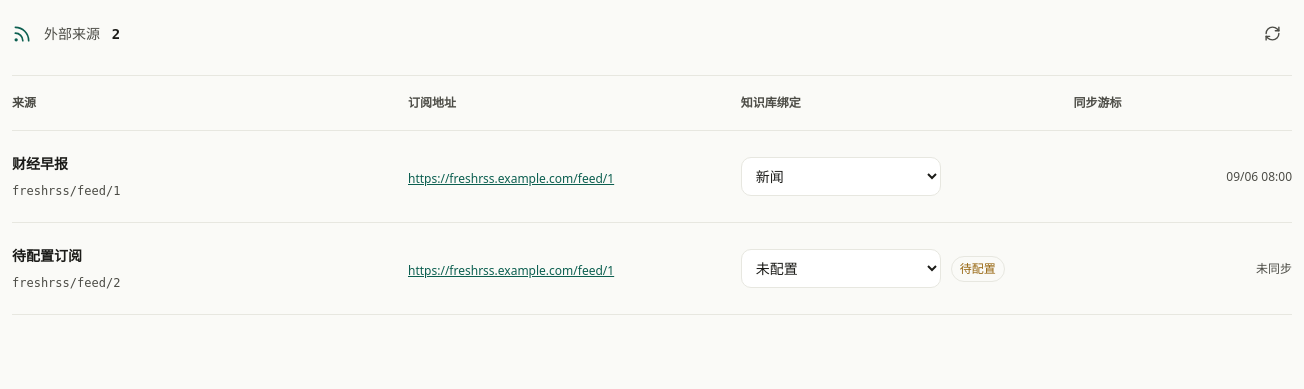
Test: SourcesPage › binds an unconfigured source and shows the confirmation
Select "新闻" in the dropdown named "绑定来源 待配置订阅" at (841, 268), box [741, 249, 941, 288]
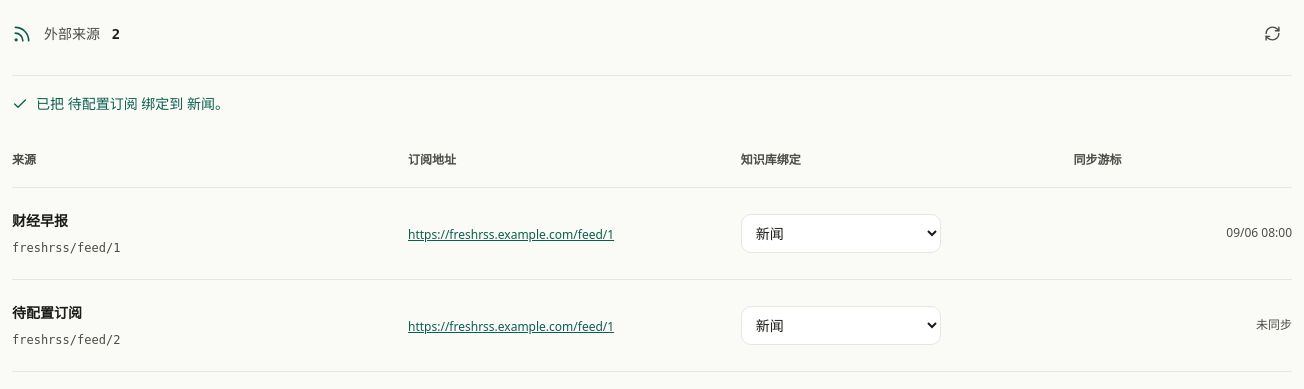
Expected: the message "已把 待配置订阅 绑定到 新闻。" is shown, [12, 94, 229, 113]
